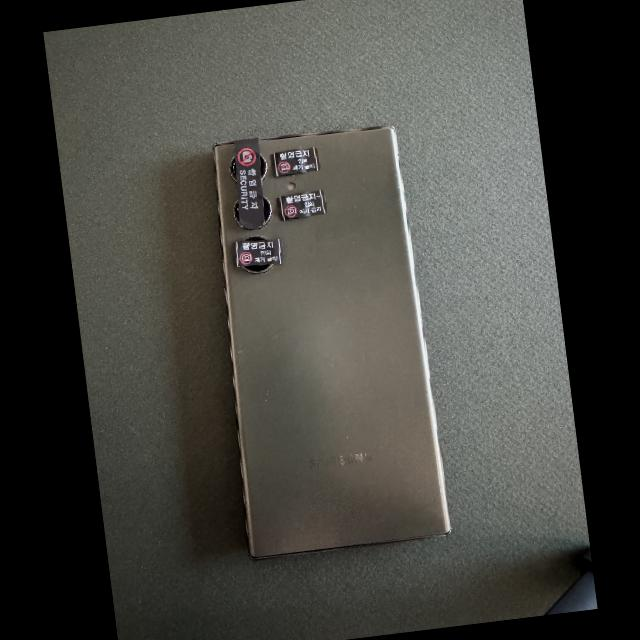lens: (244, 263, 273, 272), (262, 197, 271, 223), (231, 158, 238, 181)
phone: (212, 125, 450, 560)
sticker: (233, 138, 265, 227), (276, 189, 328, 221), (270, 146, 320, 176), (232, 239, 283, 266)
